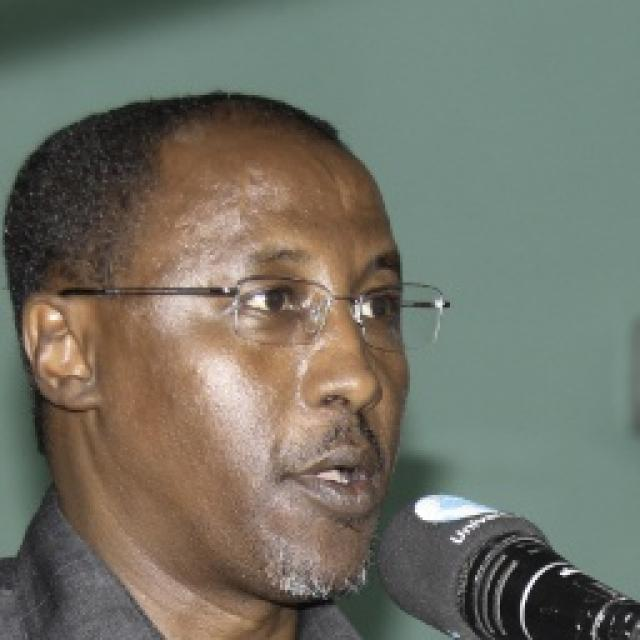glasses: (44, 257, 453, 363)
